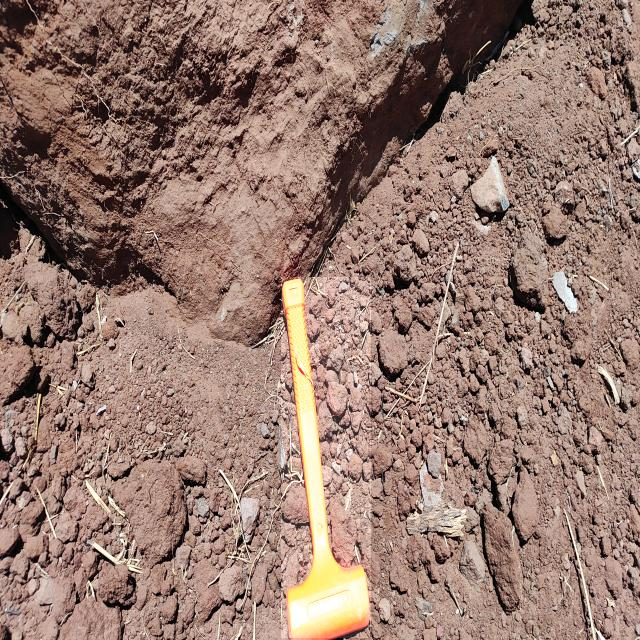Orange_hammer: (282, 277, 372, 638)
